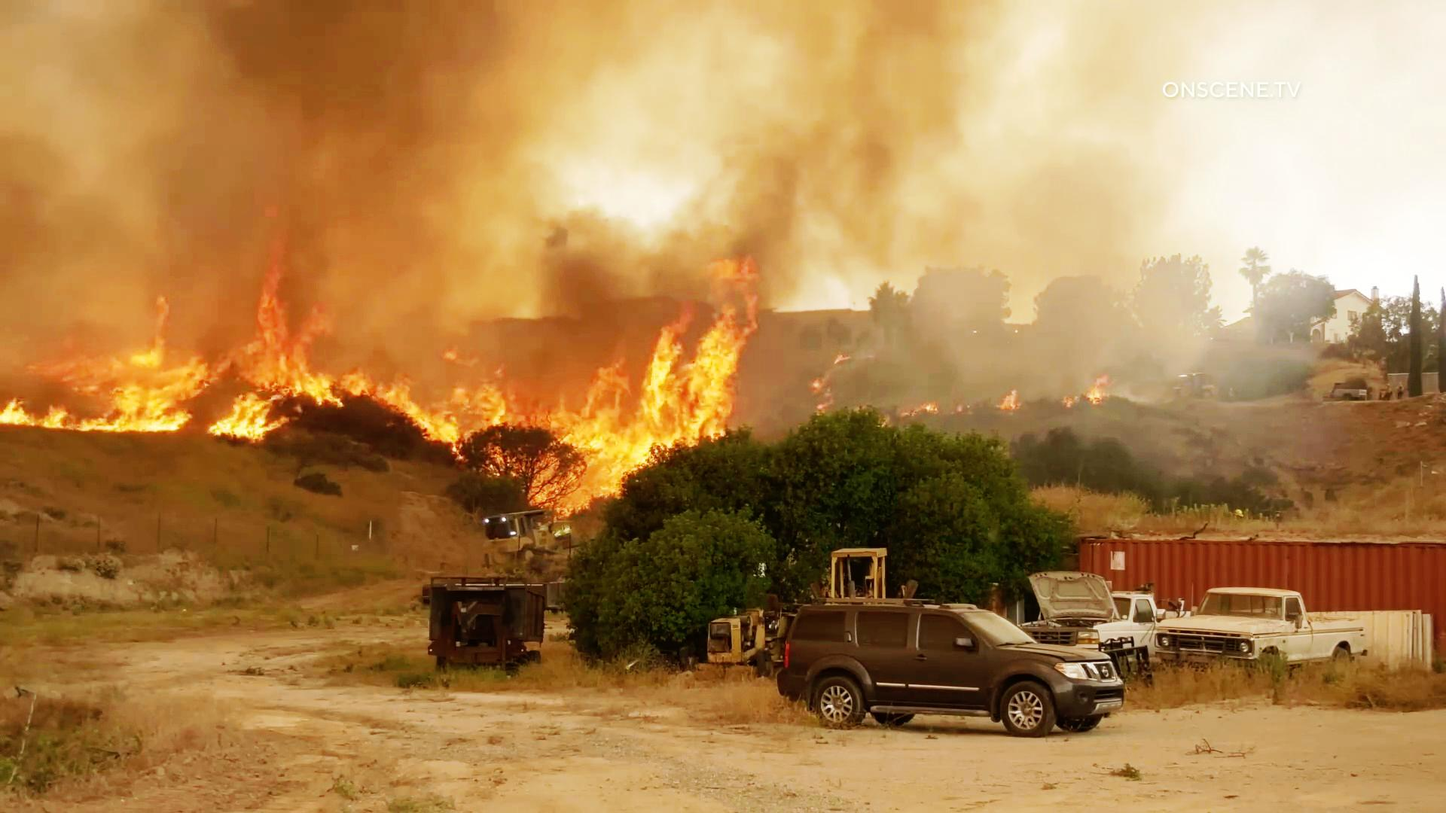fire: (230, 230, 519, 429), (533, 273, 742, 485), (34, 300, 217, 428)
